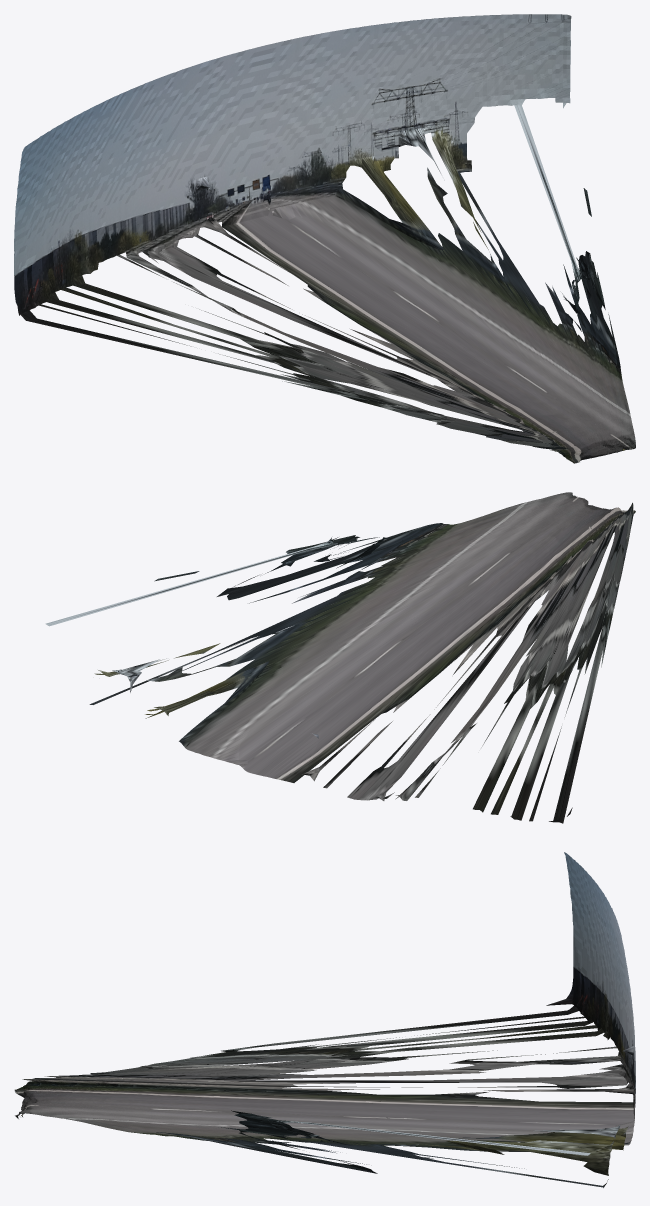
The picture shows the model from 3 angles, top to bottom: view 1: azimuth 30°, elevation 25°; view 2: azimuth 150°, elevation 25°; view 3: azimuth 270°, elevation 25°; orthographic projection. The views are drawn at different scales.
Parts seen in each view (by area): view 1: defaultobject; view 2: defaultobject; view 3: defaultobject.
Boxes of the visible parts, x1,y1,x2,y2 form: defaultobject: (14, 14, 635, 463); defaultobject: (45, 492, 635, 823); defaultobject: (14, 852, 635, 1187).
Size of the model in its own units: 41.11 by 13.2 by 44.72.
Materials: 1 (1 with a texture image).
